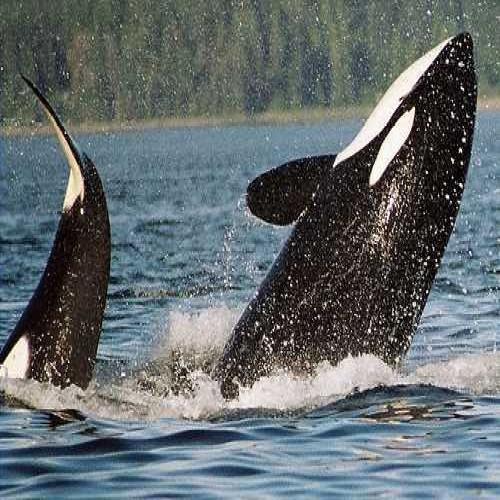killer_whale-endangered: (208, 19, 480, 438), (0, 55, 148, 448)
